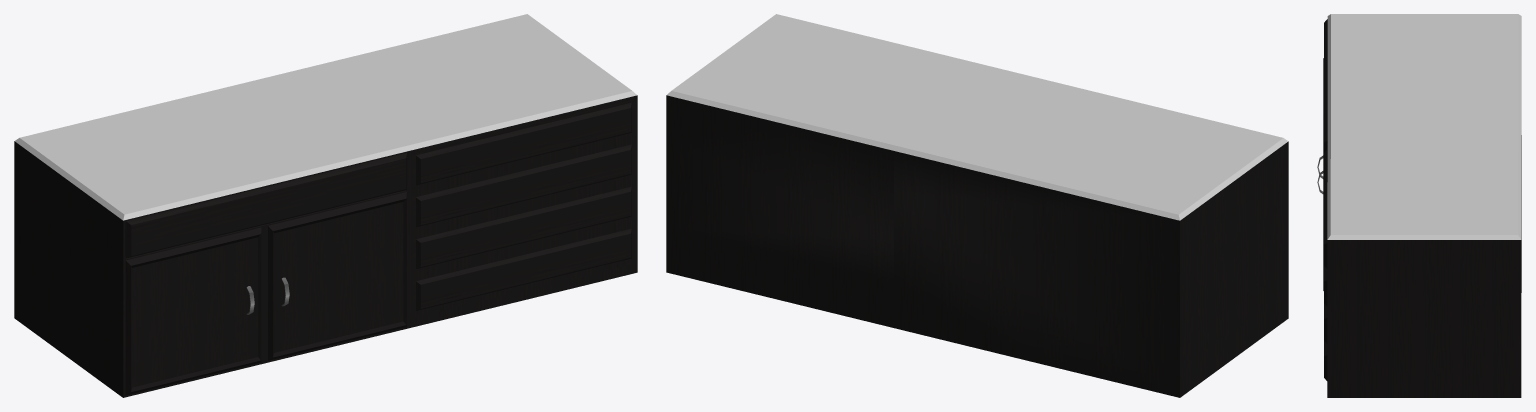
The model's file is Open_Kitchencounter_C_4.FBX.
3 views of the same model, side by side, from view 1: azimuth 30°, elevation 25°; view 2: azimuth 150°, elevation 25°; view 3: azimuth 270°, elevation 25° (orthographic). The views are drawn at different scales.
Parts seen in each view (by area): view 1: Open_Counter_A001, Door_ R_005, Door_ R_004, Drawer001, Drawer_B002, Drawer_A002, Drawer_C001, Drawer_D001; view 2: Open_Counter_A001; view 3: Open_Counter_A001, Drawer001, Drawer_A002, Door_ R_005.
Part boxes in pixels (left/top/right/bottom): Open_Counter_A001: left=14, top=14, right=637, bottom=397; Door_ R_005: left=268, top=192, right=406, bottom=360; Door_ R_004: left=125, top=227, right=261, bottom=395; Drawer001: left=125, top=153, right=407, bottom=258; Drawer_B002: left=416, top=144, right=631, bottom=227; Drawer_A002: left=416, top=102, right=631, bottom=185; Drawer_C001: left=416, top=186, right=631, bottom=268; Drawer_D001: left=416, top=228, right=631, bottom=310; Open_Counter_A001: left=666, top=14, right=1288, bottom=397; Open_Counter_A001: left=1327, top=14, right=1521, bottom=397; Drawer001: left=1324, top=19, right=1327, bottom=152; Drawer_A002: left=1324, top=149, right=1327, bottom=268; Door_ R_005: left=1317, top=120, right=1323, bottom=290.
Size of the model in its own units: 410 by 138 by 158.
